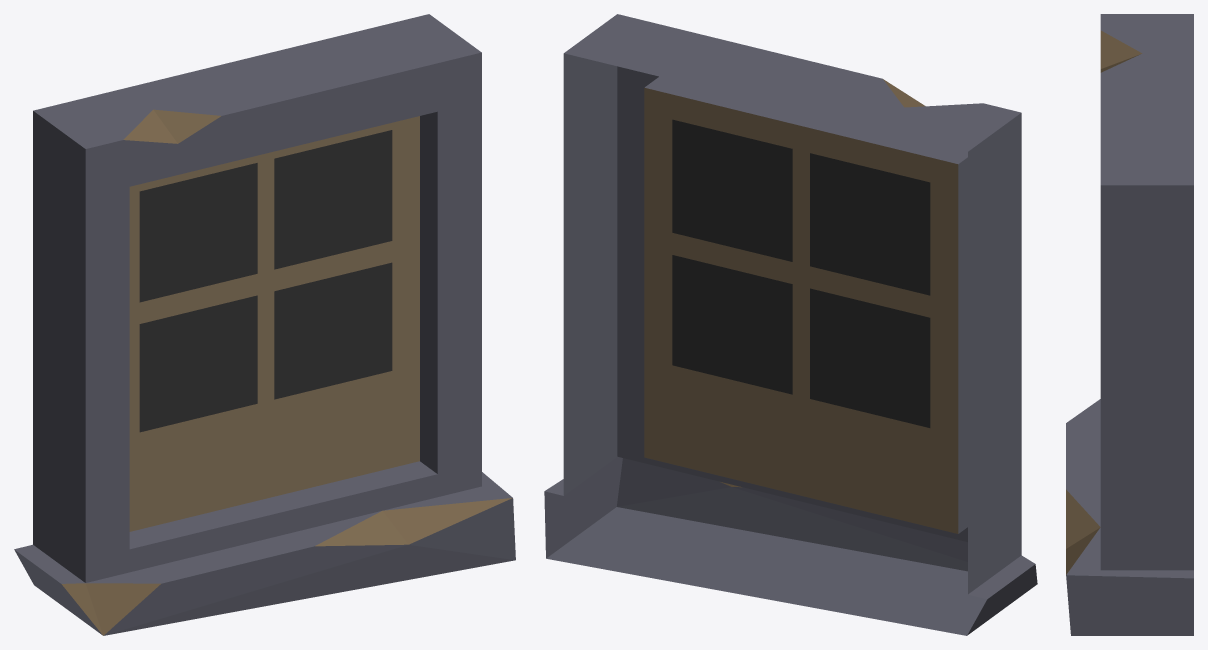
Rendered from SM_Prop_Window_02.fbx.
3 views of the same model, side by side, from view 1: azimuth 30°, elevation 25°; view 2: azimuth 150°, elevation 25°; view 3: azimuth 270°, elevation 25° (orthographic). The views are drawn at different scales.
Parts seen in each view (by area): view 1: SM_Prop_Window_02; view 2: SM_Prop_Window_02; view 3: SM_Prop_Window_02.
Part boxes in pixels (x1,y1,x2,y2): SM_Prop_Window_02: (14,14,515,635); SM_Prop_Window_02: (544,14,1037,635); SM_Prop_Window_02: (1066,14,1193,635).
Size of the model in its own units: 0.8226 by 0.9046 by 0.2365.
